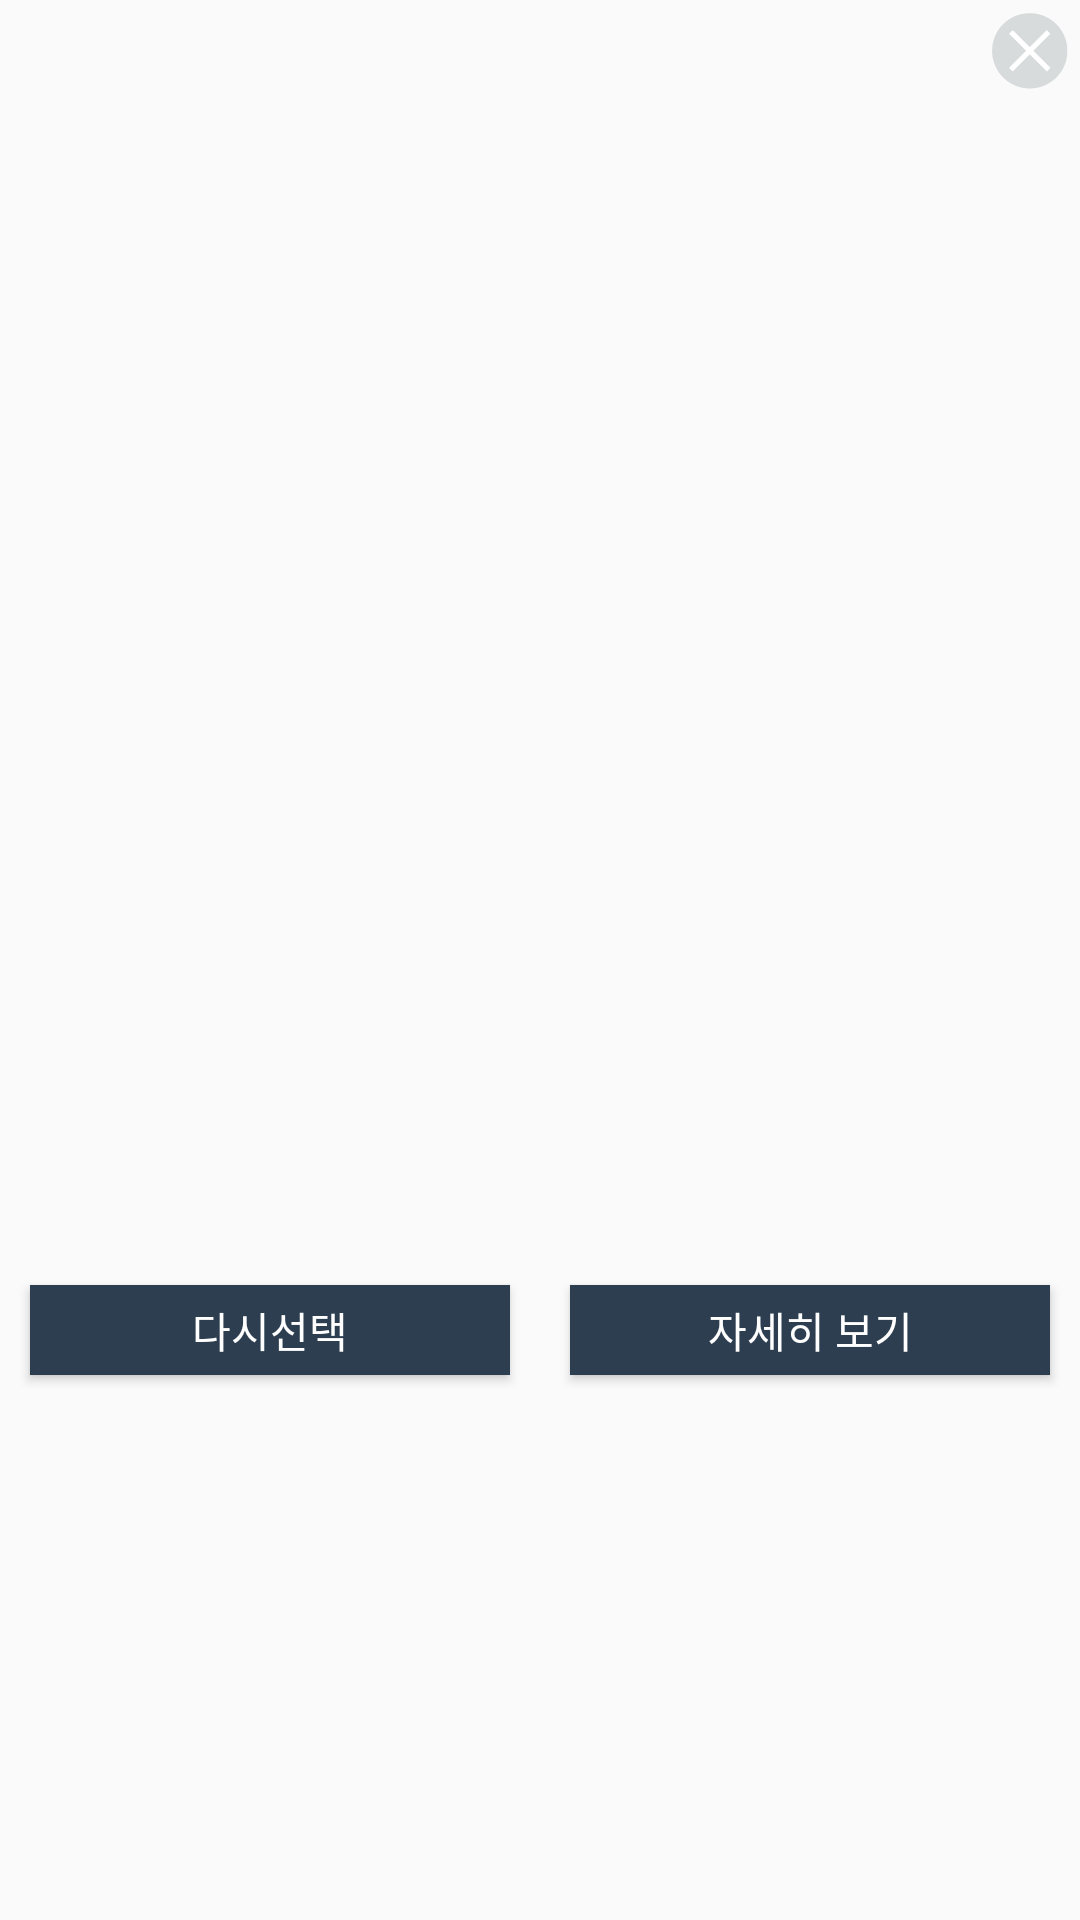

Screen size 1080px×1920px. Icon name, then its center in pixels as (x=x, y=y):
cancle: (x=1029, y=50)
